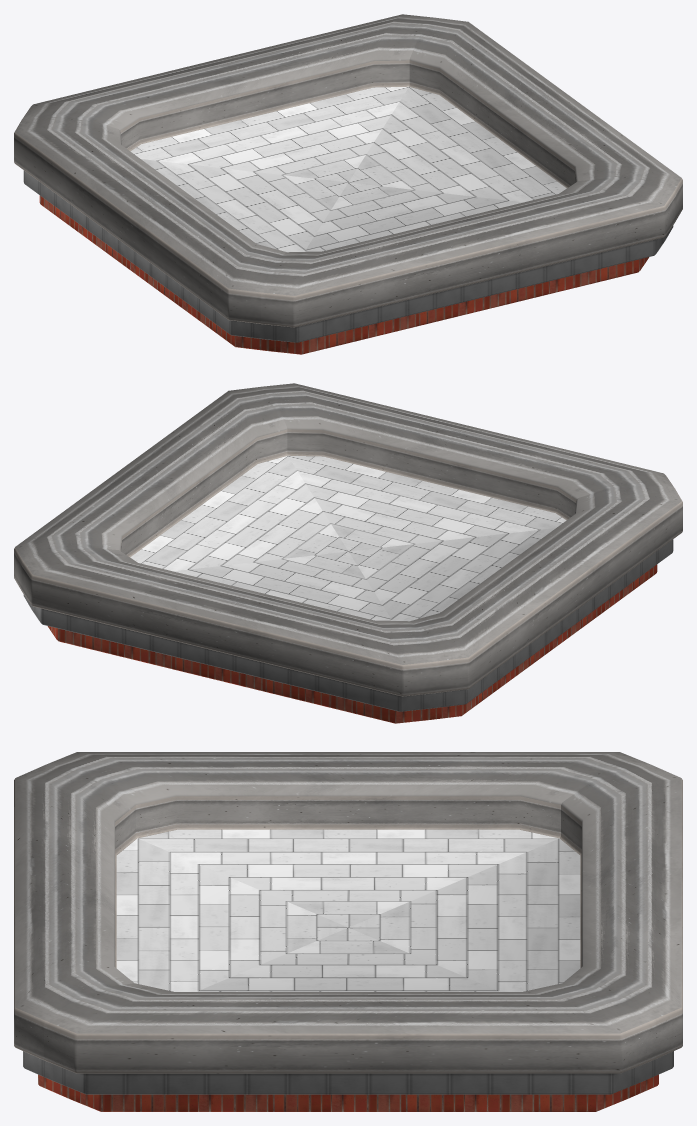
The model's file is SM_Roof_01a.fbx.
3 renders of one model, top to bottom at view 1: azimuth 30°, elevation 25°; view 2: azimuth 150°, elevation 25°; view 3: azimuth 270°, elevation 25°, orthographic. The views are drawn at different scales.
Parts seen in each view (by area): view 1: SM_Roof_01a; view 2: SM_Roof_01a; view 3: SM_Roof_01a.
Boxes of the visible parts, bbox=[...] form: SM_Roof_01a: bbox=[14, 14, 682, 354]; SM_Roof_01a: bbox=[14, 383, 682, 723]; SM_Roof_01a: bbox=[14, 752, 682, 1111].
Size of the model in its own units: 955 by 955 by 153.
